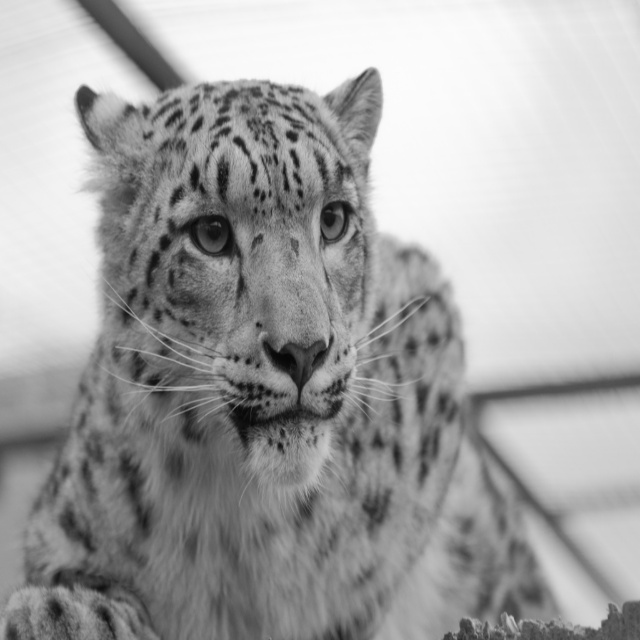Leopard: (0, 42, 576, 639)
